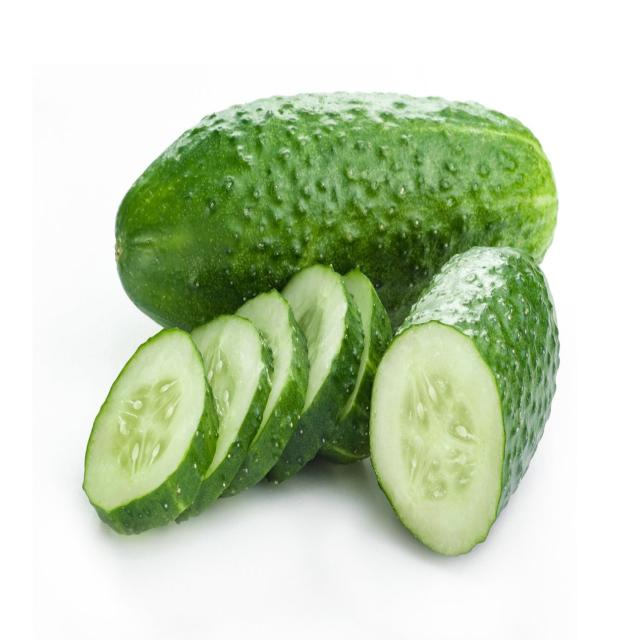Pickle: (115, 93, 558, 329), (370, 247, 559, 555), (84, 330, 219, 534), (268, 265, 364, 482), (178, 316, 272, 520), (222, 290, 309, 497), (319, 269, 392, 463)
